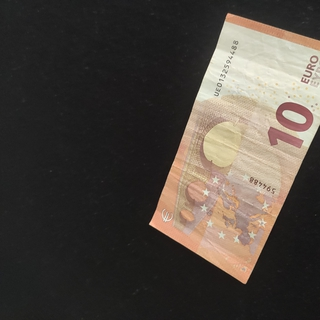10EUROBack: (148, 11, 320, 284)
